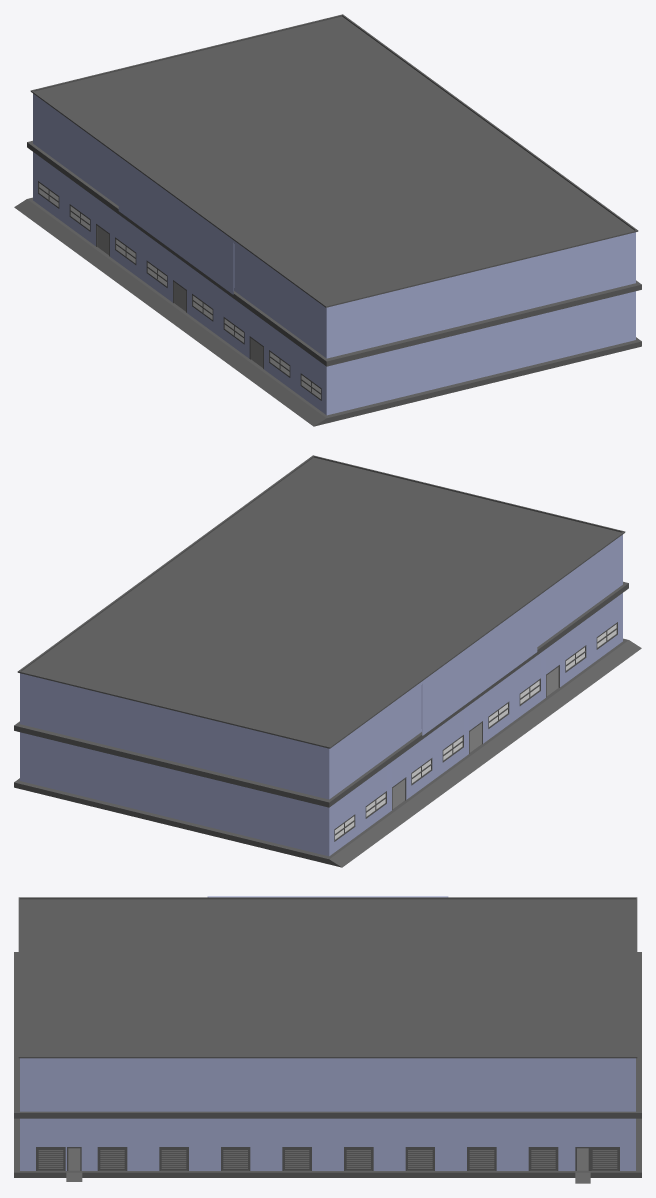
Rendered from SuperMarket.fbx.
3 renders of one model, top to bottom at view 1: azimuth 30°, elevation 25°; view 2: azimuth 150°, elevation 25°; view 3: azimuth 270°, elevation 25°, orthographic. The views are drawn at different scales.
Parts seen in each view (by area): view 1: building_001; view 2: building_001; view 3: building_001.
Part boxes in pixels (left/top/right/bottom): building_001: left=14, top=14, right=641, bottom=426; building_001: left=14, top=455, right=641, bottom=867; building_001: left=14, top=896, right=641, bottom=1183.
Size of the model in its own units: 2777 by 899 by 4248.
